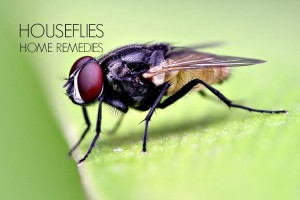fly: (60, 38, 289, 168)
